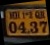character: (39, 20, 48, 34), (16, 21, 26, 33), (8, 20, 17, 33), (29, 20, 38, 33)
